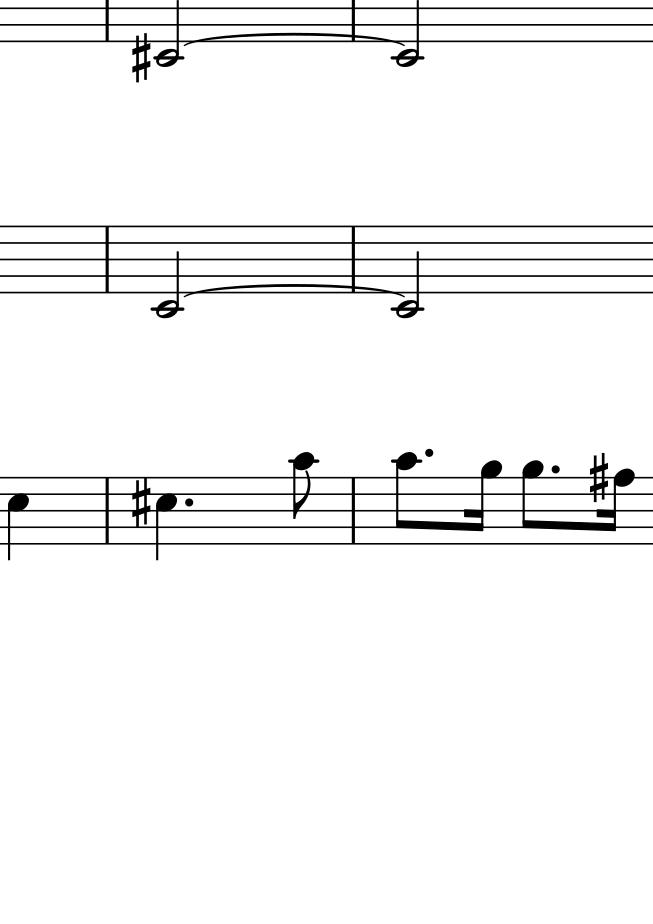16_8: (600, 469, 634, 547)
16_9: (468, 459, 501, 544)
2_-2: (152, 225, 185, 320), (392, 223, 425, 318)
4_5: (154, 474, 178, 563), (5, 475, 29, 563)
8_10: (291, 452, 317, 548), (393, 451, 418, 547)
8_9: (520, 461, 544, 546)
Sharp: (129, 476, 152, 530), (130, 32, 152, 85), (588, 451, 609, 504)
Single_barline: (345, 477, 362, 543), (345, 226, 361, 293), (99, 478, 115, 544), (100, 226, 115, 294)
Slur: (185, 30, 406, 47), (181, 282, 414, 297)
dot: (422, 446, 436, 460), (182, 495, 195, 509), (549, 463, 561, 476)
